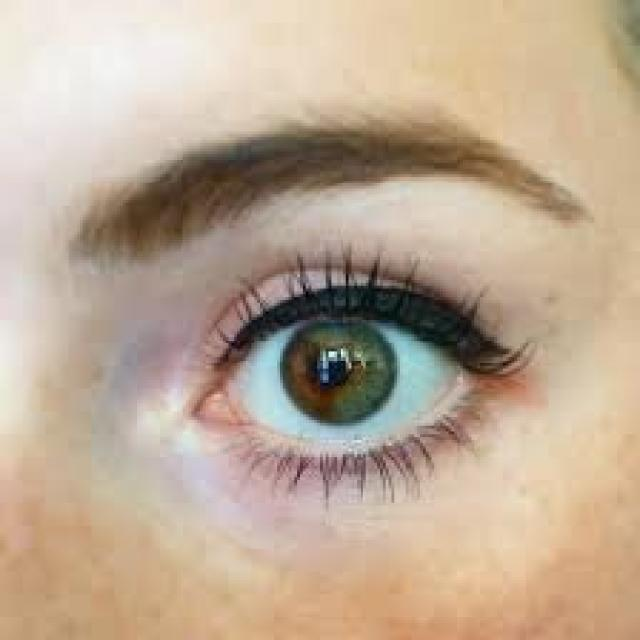Normal: (43, 210, 612, 596)
